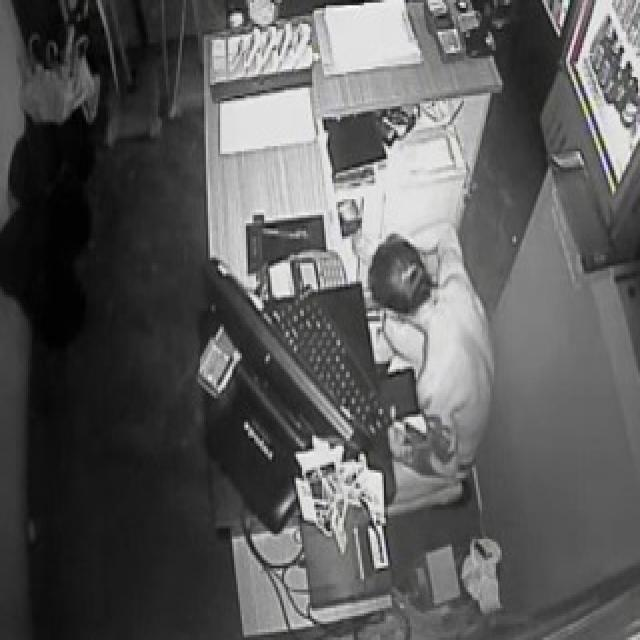thief: (364, 220, 482, 458)
